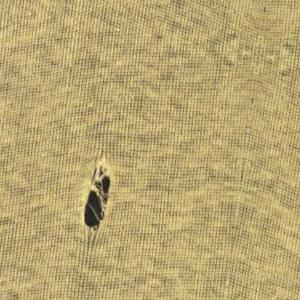hole: (82, 160, 114, 235)
